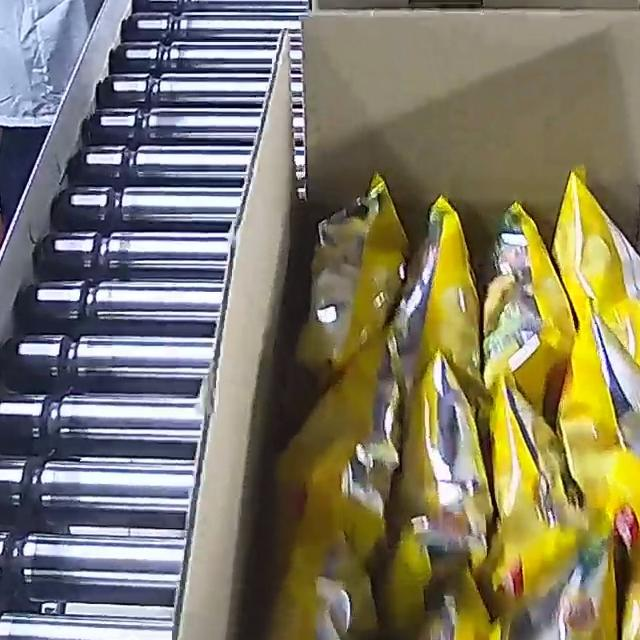salted: (254, 163, 640, 640)
